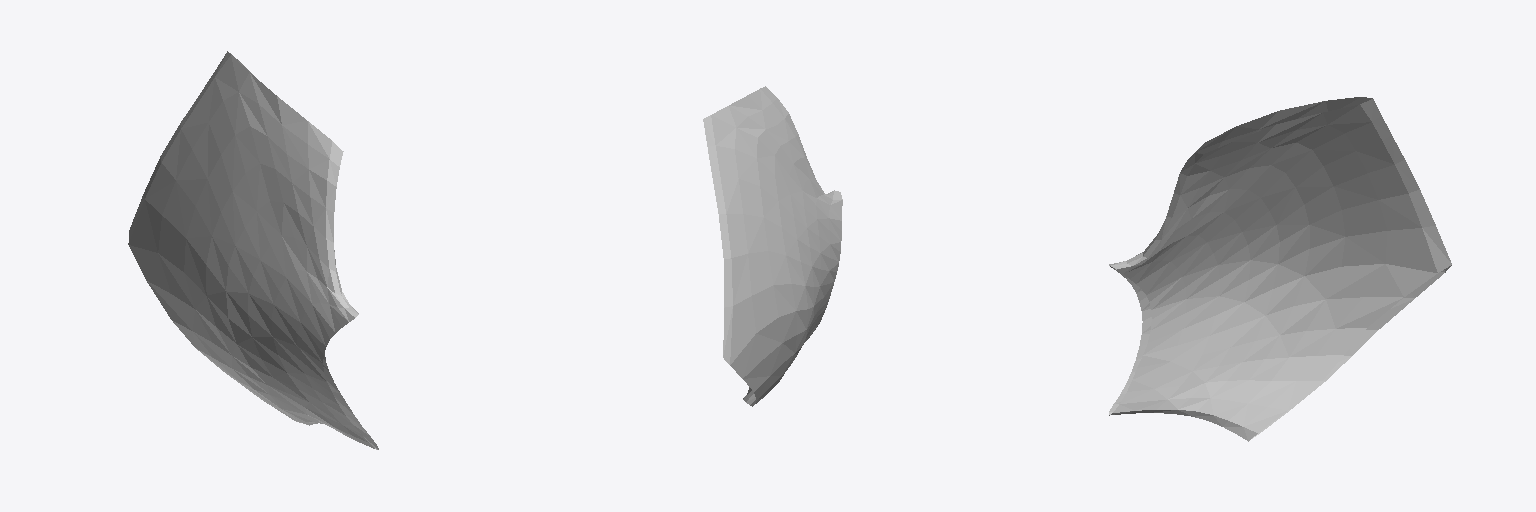
File: buccinator_right.obj
3 views of the same model, side by side, from view 1: azimuth 30°, elevation 25°; view 2: azimuth 150°, elevation 25°; view 3: azimuth 270°, elevation 25° (orthographic).
Visible parts, largest first — view 1: Buccinator_Muscle_Right; view 2: Buccinator_Muscle_Right; view 3: Buccinator_Muscle_Right.
Part boxes in pixels (bbox=[...]): Buccinator_Muscle_Right: bbox=[128, 51, 378, 449]; Buccinator_Muscle_Right: bbox=[703, 86, 842, 406]; Buccinator_Muscle_Right: bbox=[1109, 97, 1451, 441].
Bounding box in the file's own units: 0.1334 × 0.4758 × 0.4445.